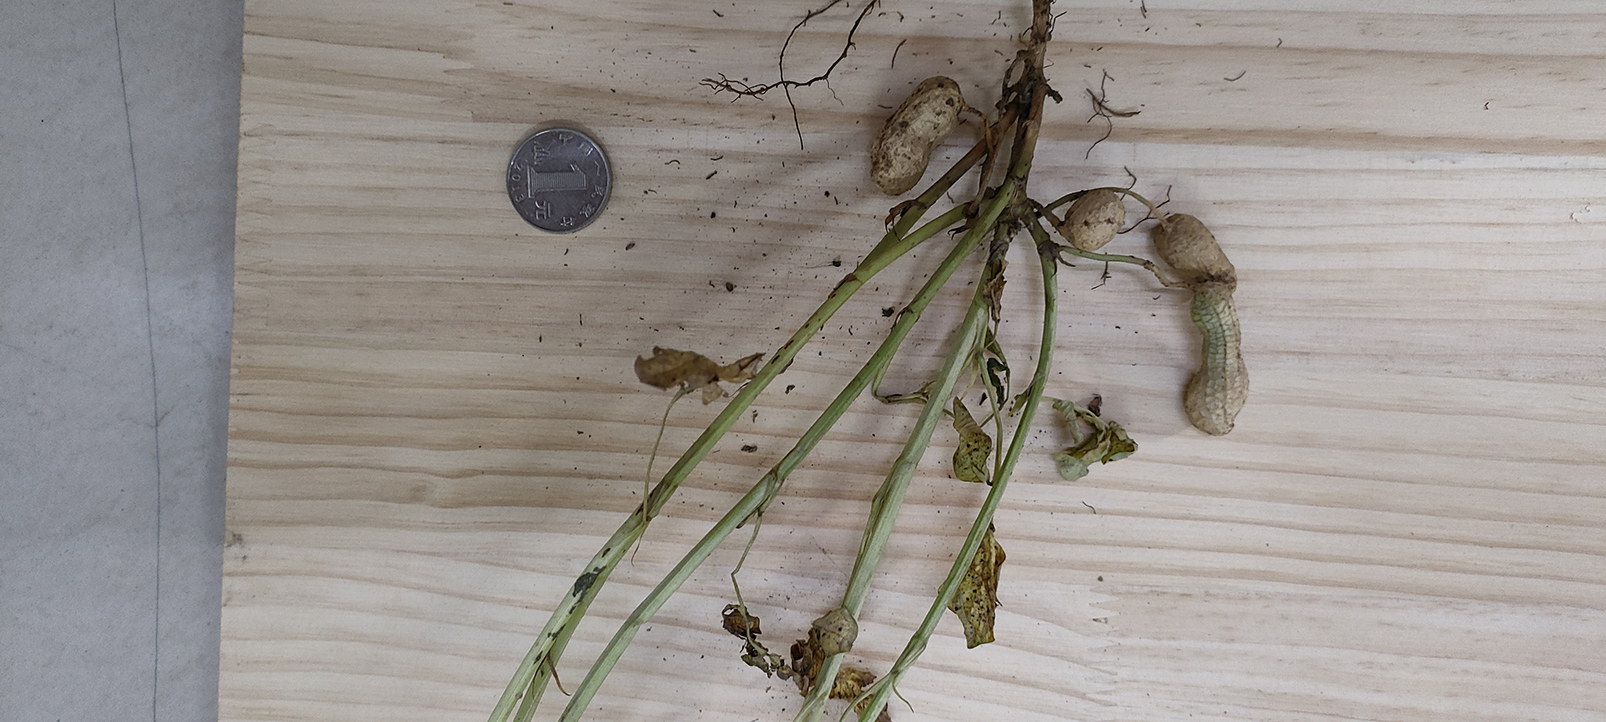h: (869, 75, 964, 195), (1184, 283, 1249, 436), (1152, 214, 1241, 291), (1063, 186, 1125, 252)
